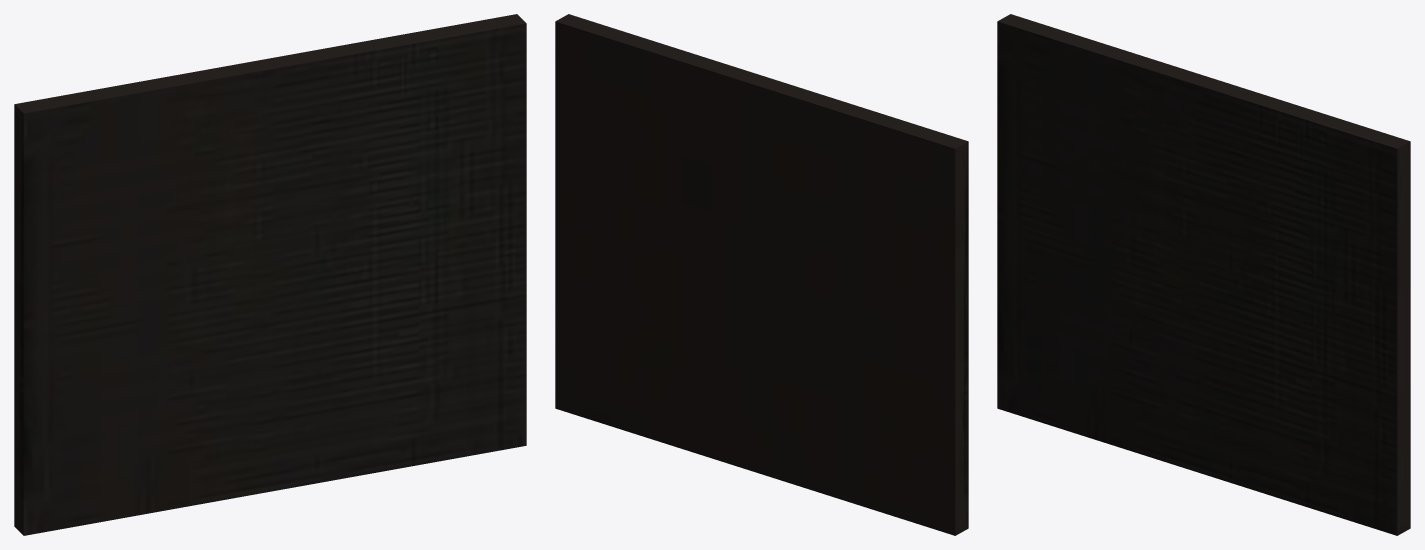
Rendered from seat__seat_board.glb.
3 renders of one model, left to right at view 1: azimuth 30°, elevation 25°; view 2: azimuth 150°, elevation 25°; view 3: azimuth 330°, elevation 25°, orthographic. The views are drawn at different scales.
Visible parts, largest first — view 1: world; view 2: world; view 3: world.
Part boxes in pixels (box(x1,y1,x2,y2)): world: box(14, 14, 526, 535); world: box(555, 14, 968, 535); world: box(997, 14, 1410, 535).
Size of the model in its own units: 0.3393 by 0.29 by 0.0563.
1 material, 1 textured.
